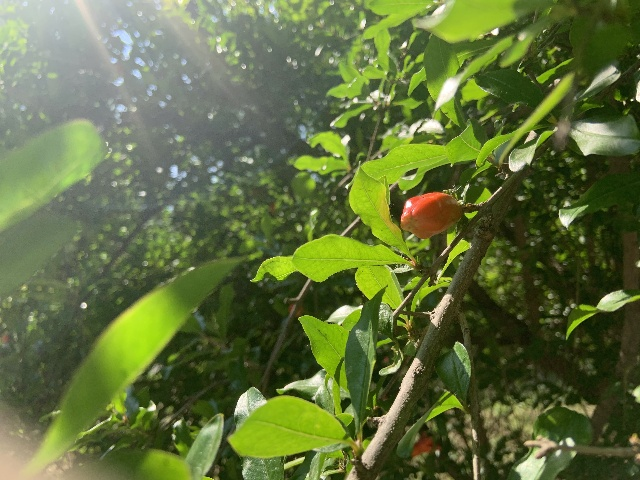bud: (400, 191, 462, 237)
flower: (411, 432, 440, 457)
